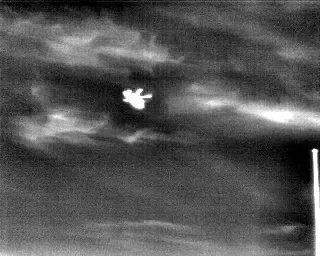HELICOPTER: (119, 83, 156, 115)
